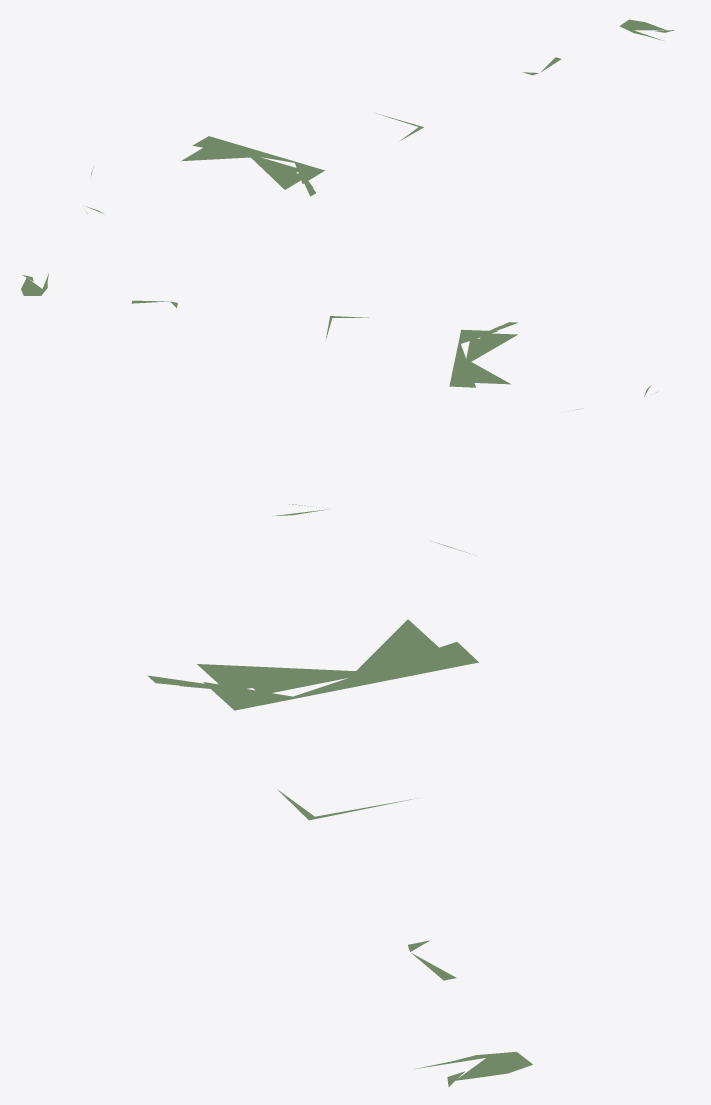
The model's file is c_1643_17814_parks.glb.
3 views of the same model, one above another, from view 1: azimuth 30°, elevation 25°; view 2: azimuth 150°, elevation 25°; view 3: azimuth 270°, elevation 25° (orthographic). The views are drawn at different scales.
Visible parts, largest first — view 1: geometry_0; view 2: geometry_0; view 3: geometry_0.
Part boxes in pixels (box(x1,y1,x2,y2)): geometry_0: box(85, 19, 674, 213); geometry_0: box(21, 273, 658, 411); geometry_0: box(147, 504, 532, 1086).
Size of the model in its own units: 248 by 0 by 86.25.
